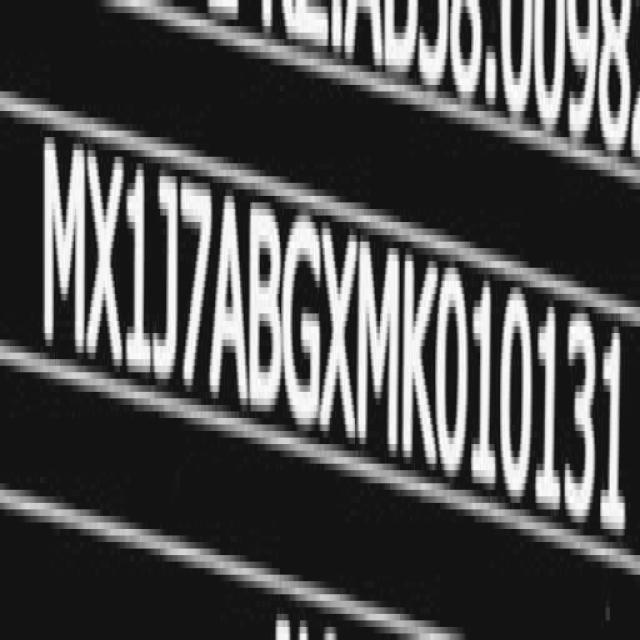0: (502, 281, 534, 511), (437, 258, 469, 484)
1: (601, 312, 631, 549), (470, 275, 497, 498), (538, 296, 564, 526)
3: (567, 306, 598, 540)
7: (182, 169, 214, 403)
A: (211, 187, 247, 414)
B: (250, 197, 282, 422)
G: (282, 201, 321, 440)
J: (150, 164, 182, 392)
K: (404, 247, 437, 477)
L: (127, 162, 156, 389)
M: (39, 130, 86, 370), (358, 230, 402, 462)
X: (88, 140, 125, 378), (322, 223, 357, 448)
